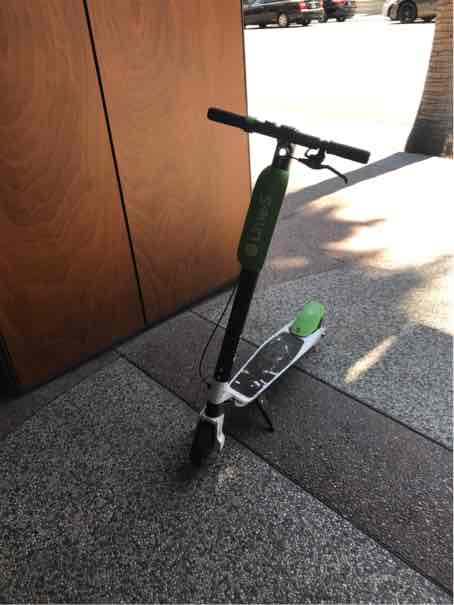scooter: (174, 96, 374, 491)
